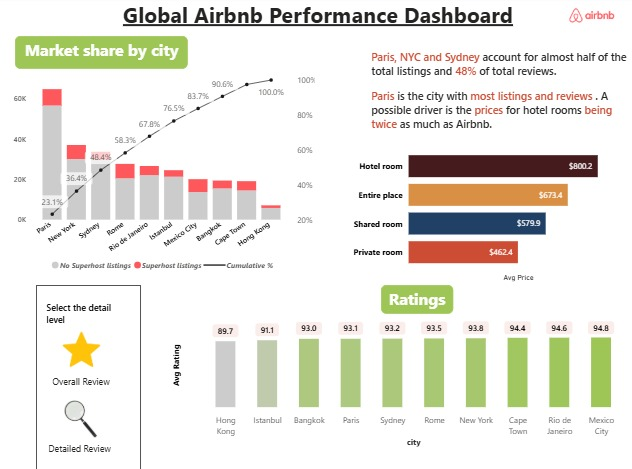

Layout of this report page (visuals, bound fields, positions):
{"tool":"powerbi","page":{"name":"Ratings","canvas":[960,720],"ordinal":1},"visuals":[{"type":"textbox","box":[176.8,0,606.5,58.3],"z":0},{"type":"image","box":[88.2,494.4,76.2,67.2],"z":0,"group":"g1"},{"type":"image","box":[88.1,603.5,76.2,57.9],"z":0,"group":"g2"},{"type":"image","box":[817.1,0,143.4,58.3],"z":1000},{"type":"textbox","box":[77.7,561.6,98.6,26.9],"z":1000,"group":"g1"},{"type":"textbox","box":[71.7,661.4,109,37.7],"z":1000,"group":"g2"},{"type":"textbox","box":[26.9,59.8,258.4,49.3],"z":2000},{"type":"textbox","box":[554.2,74.7,394.4,132.9],"z":3000},{"type":"lineStackedColumnComboChart","fields":{"Category":["Listings.city"],"Y":["Listings.No Superhost listings","Listings.Superhost listings"],"Y2":["Listings.Cumulative %"]},"box":[19.4,109,460.1,310.7],"z":4000},{"type":"barChart","fields":{"Category":["Listings.room_type"],"Y":["Listings.Avg Price"]},"box":[525.8,207.6,422.7,224.1],"z":5000},{"type":"columnChart","fields":{"Category":["Listings.city"],"Y":["Listings.Avg Rating"]},"box":[258.4,475,690.1,203.2],"z":6000},{"type":"shape","box":[58.3,431.7,156.8,277.8],"z":7000},{"type":"textbox","box":[573.6,431.7,107.6,43.3],"z":8000},{"type":"textbox","box":[68.7,454.1,130,40.3],"z":10000},{"type":"group","id":"g1","title":"Group 1","box":[77.7,494.4,98.6,94.1],"z":11000},{"type":"group","id":"g2","title":"Group 2","box":[71.7,603.5,109,95.6],"z":12000}]}

Visuals, with their boxes in screenshot pixels (x1, y1, x2, y2), scaled from the page's 960x720 canvas onto the 632x469 screenshot:
textbox: <box>116,0,516,38</box>
image: <box>58,322,108,366</box>
image: <box>58,393,108,431</box>
image: <box>538,0,631,38</box>
textbox: <box>51,366,116,383</box>
textbox: <box>47,431,119,455</box>
textbox: <box>18,39,188,71</box>
textbox: <box>365,49,624,135</box>
lineStackedColumnComboChart - Listings.city x Listings.No Superhost listings: <box>13,71,316,273</box>
barChart - Listings.room_type x Listings.Avg Price: <box>346,135,624,281</box>
columnChart - Listings.city x Listings.Avg Rating: <box>170,309,624,442</box>
shape: <box>38,281,142,462</box>
textbox: <box>378,281,448,309</box>
textbox: <box>45,296,131,322</box>
"Group 1" group: <box>51,322,116,383</box>
"Group 2" group: <box>47,393,119,455</box>
